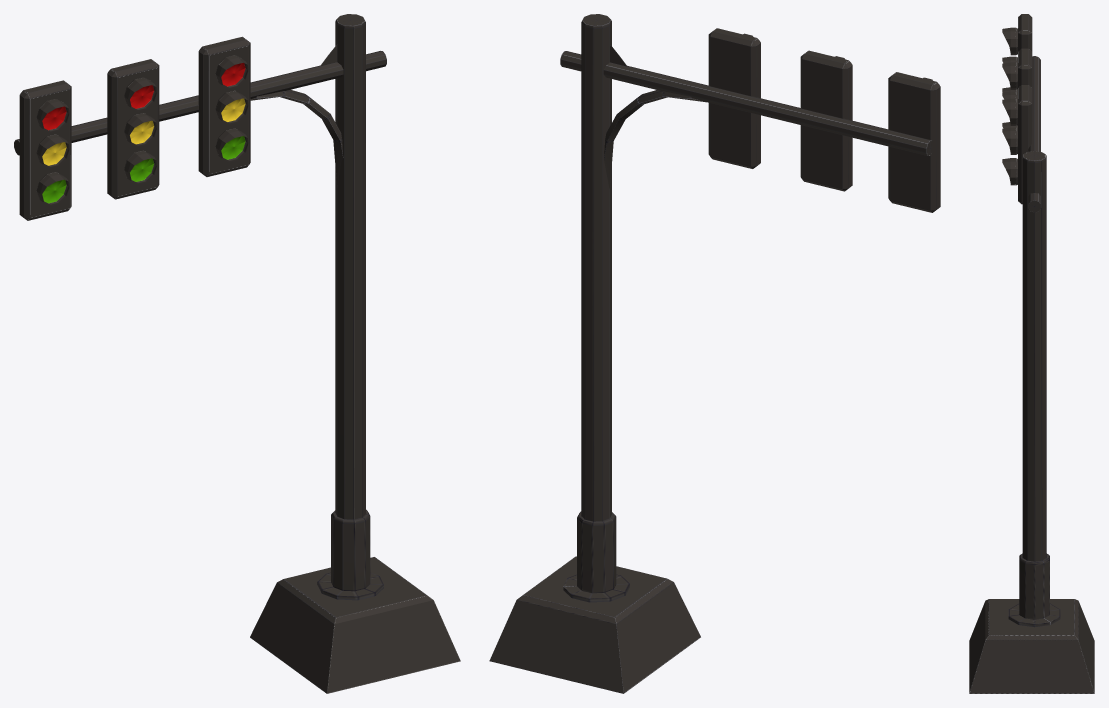
Rendered from TrafficLight.fbx.
3 renders of one model, left to right at view 1: azimuth 30°, elevation 25°; view 2: azimuth 150°, elevation 25°; view 3: azimuth 270°, elevation 25°, orthographic. The views are drawn at different scales.
Parts seen in each view (by area): view 1: pasted__pCylinder1, pasted__pCube1, pasted__pasted__pCube3, pasted__pasted__pasted__pCube3, pasted__pCube3, pasted__pCylinder2, pasted__pTorus1; view 2: pasted__pCylinder1, pasted__pCube1, pasted__pasted__pasted__pCube3, pasted__pCube3, pasted__pasted__pCube3, pasted__pCylinder2, pasted__pTorus1; view 3: pasted__pCylinder1, pasted__pCube1, pasted__pCube3, pasted__pCylinder2, pasted__pasted__pCube3, pasted__pasted__pasted__pCube3.
Boxes of the visible parts, left/top/right/bottom form: pasted__pCylinder1: left=317, top=14, right=383, bottom=600; pasted__pCube1: left=250, top=557, right=460, bottom=693; pasted__pasted__pCube3: left=107, top=59, right=159, bottom=199; pasted__pasted__pasted__pCube3: left=19, top=80, right=71, bottom=220; pasted__pCube3: left=198, top=36, right=250, bottom=176; pasted__pCylinder2: left=14, top=50, right=386, bottom=155; pasted__pTorus1: left=250, top=89, right=343, bottom=187; pasted__pCylinder1: left=563, top=14, right=629, bottom=602; pasted__pCube1: left=489, top=556, right=700, bottom=693; pasted__pasted__pasted__pCube3: left=888, top=72, right=940, bottom=212; pasted__pCube3: left=708, top=28, right=760, bottom=168; pasted__pasted__pCube3: left=800, top=50, right=852, bottom=191; pasted__pCylinder2: left=560, top=51, right=932, bottom=155; pasted__pTorus1: left=604, top=90, right=706, bottom=188; pasted__pCylinder1: left=1008, top=151, right=1060, bottom=627; pasted__pCube1: left=969, top=599, right=1094, bottom=693; pasted__pCube3: left=1002, top=85, right=1032, bottom=204; pasted__pCylinder2: left=1028, top=56, right=1040, bottom=212; pasted__pasted__pCube3: left=1002, top=48, right=1032, bottom=128; pasted__pasted__pasted__pCube3: left=1002, top=14, right=1032, bottom=92.
Size of the model in its own units: 535 by 811 by 177.
3 materials, 3 textured.
